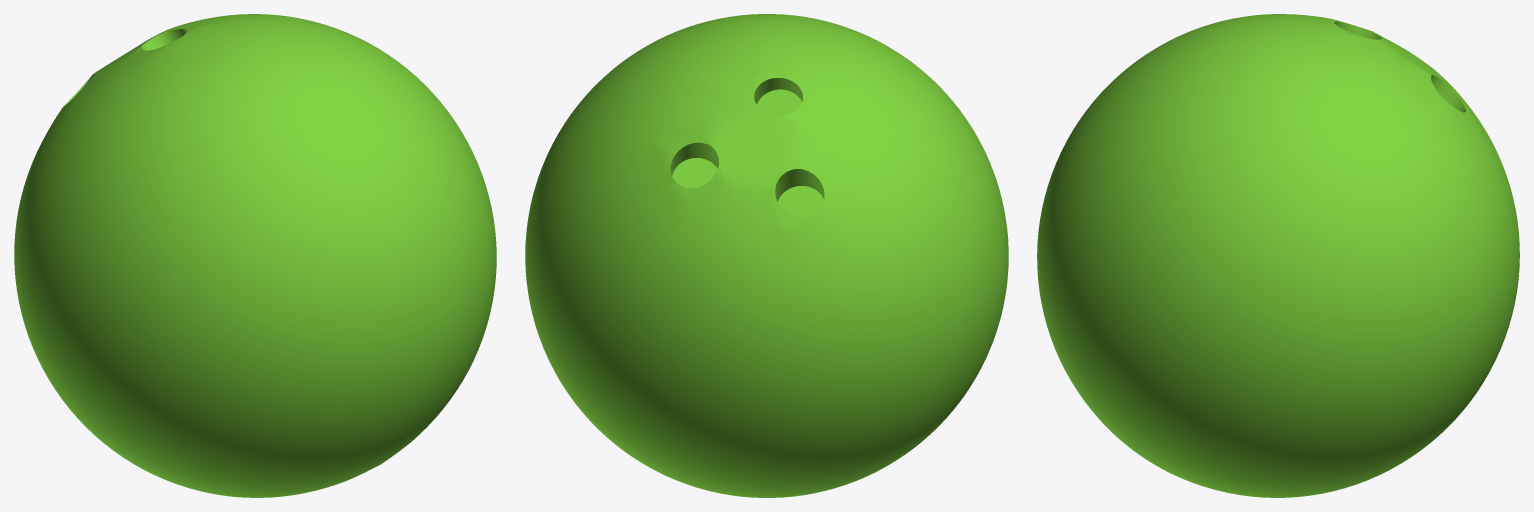
File: Green Bowling Ball.fbx
3 renders of one model, left to right at view 1: azimuth 30°, elevation 25°; view 2: azimuth 150°, elevation 25°; view 3: azimuth 270°, elevation 25°, orthographic.
Visible parts, largest first — view 1: Sphere.004; view 2: Sphere.004; view 3: Sphere.004.
Part boxes in pixels (left/top/right/bottom): Sphere.004: left=14, top=14, right=496, bottom=497; Sphere.004: left=525, top=14, right=1008, bottom=497; Sphere.004: left=1037, top=14, right=1519, bottom=497.
Size of the model in its own units: 197 by 198 by 198.
